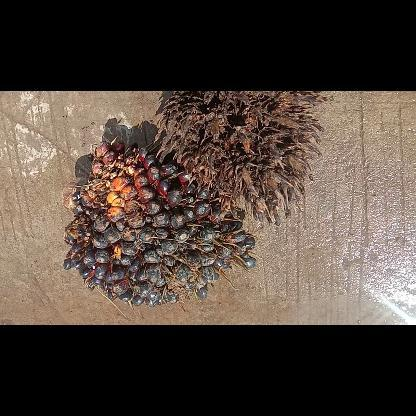Janjang kosong: (154, 91, 324, 225)
TBS mentah: (62, 136, 262, 316)
